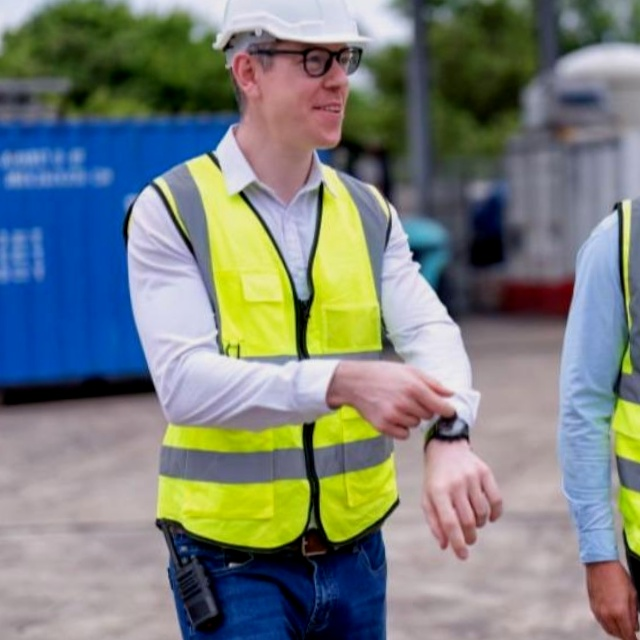Con_Casco: (206, 0, 375, 148)
Con_Chaleco: (141, 155, 413, 538)
